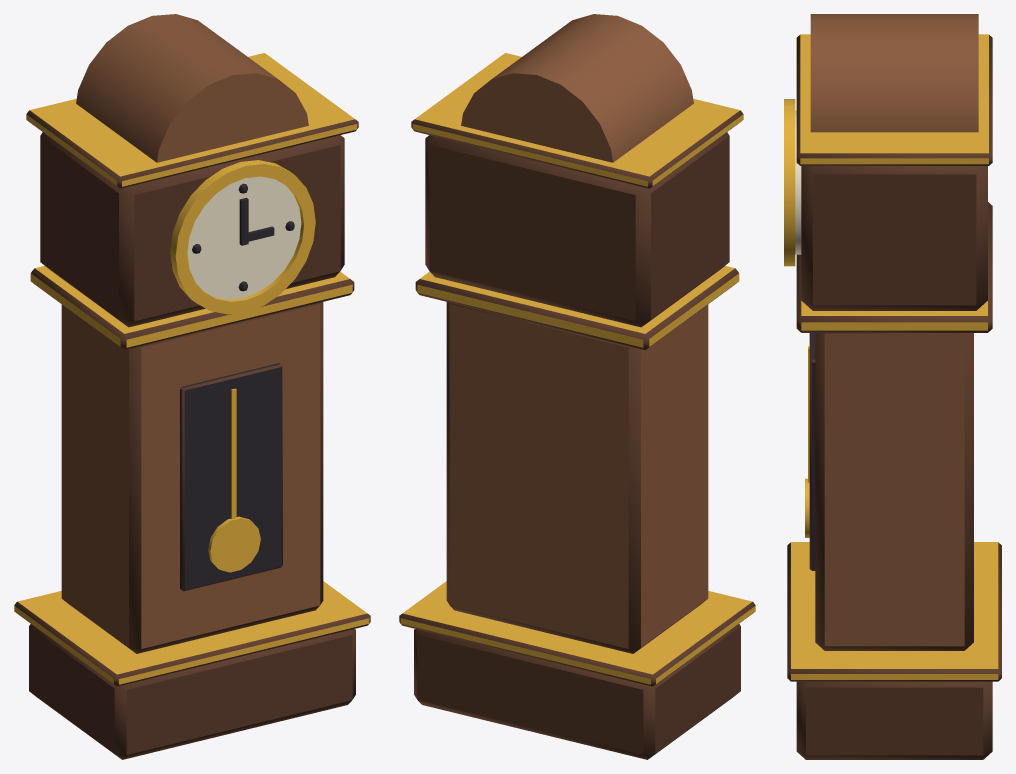
File: hide_clock.glb
3 renders of one model, left to right at view 1: azimuth 30°, elevation 25°; view 2: azimuth 150°, elevation 25°; view 3: azimuth 270°, elevation 25°, orthographic. The views are drawn at different scales.
Parts seen in each view (by area): view 1: hide_clock; view 2: hide_clock; view 3: hide_clock.
Boxes of the visible parts, x1=… form: hide_clock: x1=14, y1=14, x2=370, y2=759; hide_clock: x1=399, y1=14, x2=755, y2=759; hide_clock: x1=784, y1=14, x2=1001, y2=759.
Bounding box in the file's own units: 0.66 × 1.61 × 0.467.
